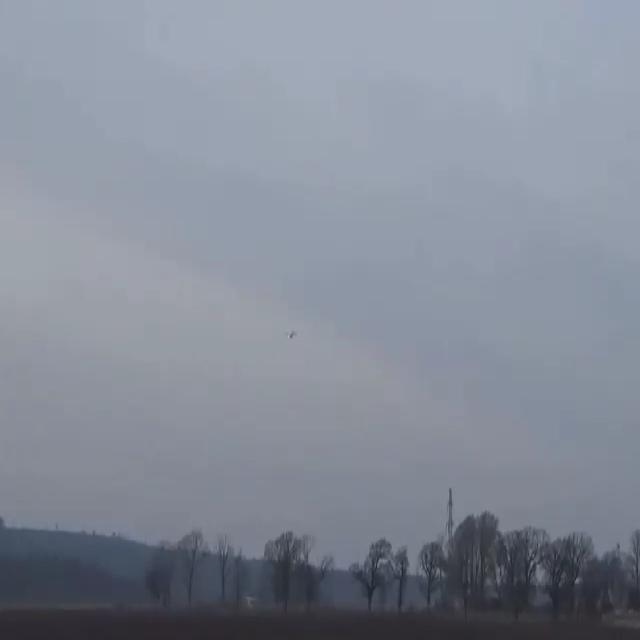AirPlane: (275, 322, 304, 348)
